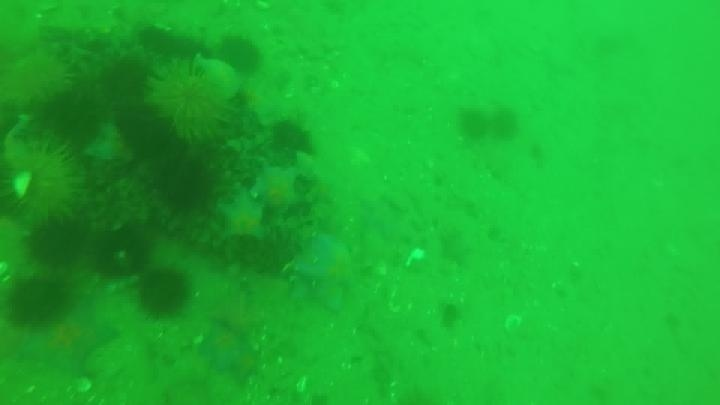echinus: (144, 58, 237, 146), (1, 134, 84, 224), (151, 151, 217, 215), (35, 87, 104, 146), (5, 274, 72, 329), (113, 103, 176, 161), (25, 214, 89, 270), (90, 226, 152, 280), (135, 266, 191, 319), (137, 21, 211, 61), (246, 228, 300, 277), (98, 56, 151, 103), (217, 34, 264, 77), (268, 118, 315, 158), (456, 107, 490, 142), (491, 106, 524, 142), (436, 301, 464, 330)
starfish: (17, 299, 119, 376), (292, 233, 360, 312), (215, 189, 270, 244), (199, 319, 255, 372), (250, 164, 304, 217), (196, 57, 246, 104), (223, 342, 264, 386), (437, 227, 475, 268)
